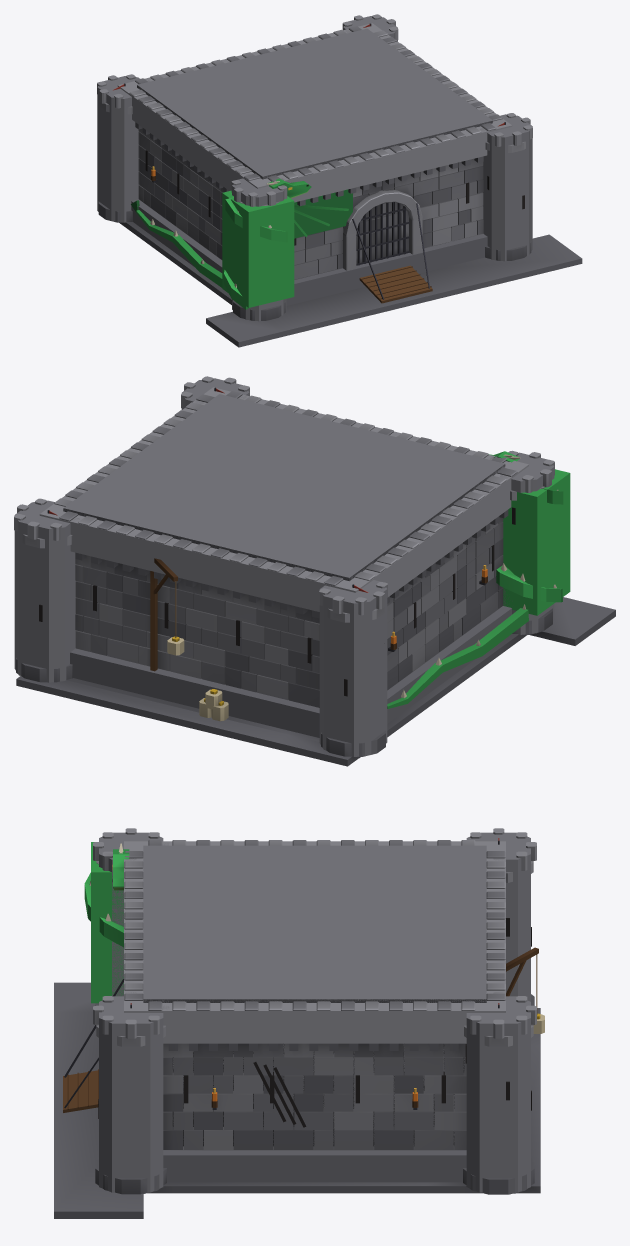
The model's file is PocketDragonFloor.fbx.
3 views of the same model, one above another, from view 1: azimuth 30°, elevation 25°; view 2: azimuth 150°, elevation 25°; view 3: azimuth 270°, elevation 25° (orthographic). The views are drawn at different scales.
Parts seen in each view (by area): view 1: PD_S_All, PD_F_Rings, PD_F_Quiet, PD_F_Smooth, PD_F_Props; view 2: PD_S_All, PD_F_Rings, PD_F_Quiet, PD_F_Smooth, PD_F_Props; view 3: PD_S_All, PD_F_Rings, PD_F_Quiet, PD_F_Smooth, PD_F_Props.
Boxes of the visible parts, left/top/right/bottom form: PD_S_All: left=97, top=16, right=532, bottom=321; PD_F_Rings: left=129, top=26, right=502, bottom=300; PD_F_Quiet: left=126, top=85, right=581, bottom=341; PD_F_Smooth: left=99, top=17, right=582, bottom=347; PD_F_Props: left=97, top=14, right=532, bottom=320; PD_S_All: left=14, top=378, right=570, bottom=756; PD_F_Rings: left=54, top=391, right=528, bottom=699; PD_F_Quiet: left=16, top=464, right=615, bottom=759; PD_F_Smooth: left=14, top=379, right=615, bottom=766; PD_F_Props: left=14, top=376, right=563, bottom=756; PD_S_All: left=91, top=832, right=530, bottom=1192; PD_F_Rings: left=63, top=840, right=505, bottom=1149; PD_F_Quiet: left=54, top=982, right=540, bottom=1211; PD_F_Smooth: left=54, top=832, right=544, bottom=1218; PD_F_Props: left=84, top=828, right=544, bottom=1194.
Bounding box in the file's own units: 60 × 20 × 60.
